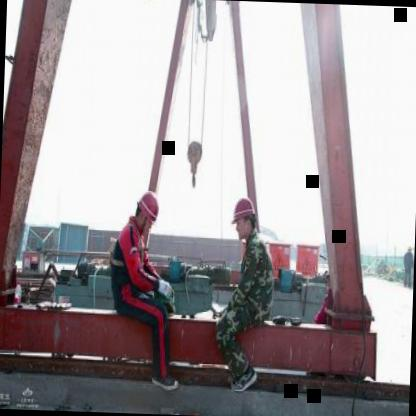helmet: (228, 195, 258, 245), (134, 189, 162, 235)
